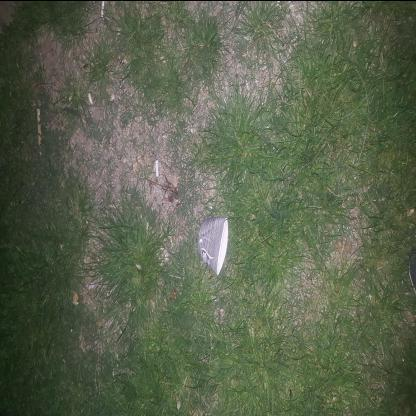karton: (141, 198, 203, 230)
